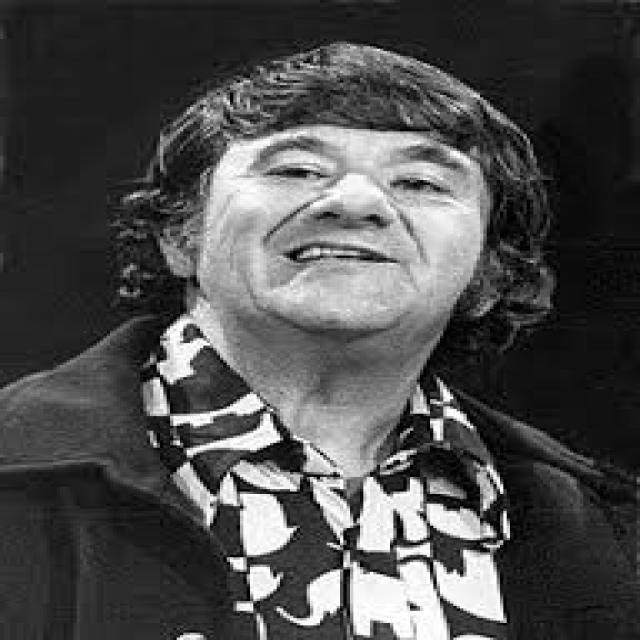stroke_face: (168, 62, 514, 358)
